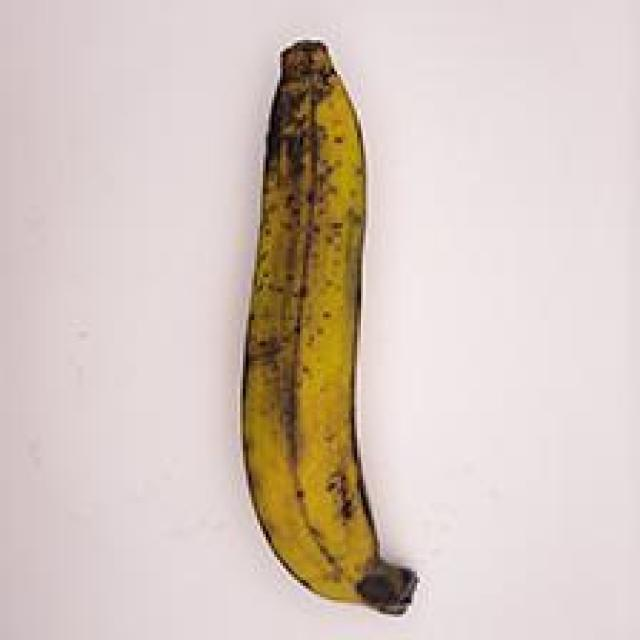Overripe: (188, 16, 465, 630)
